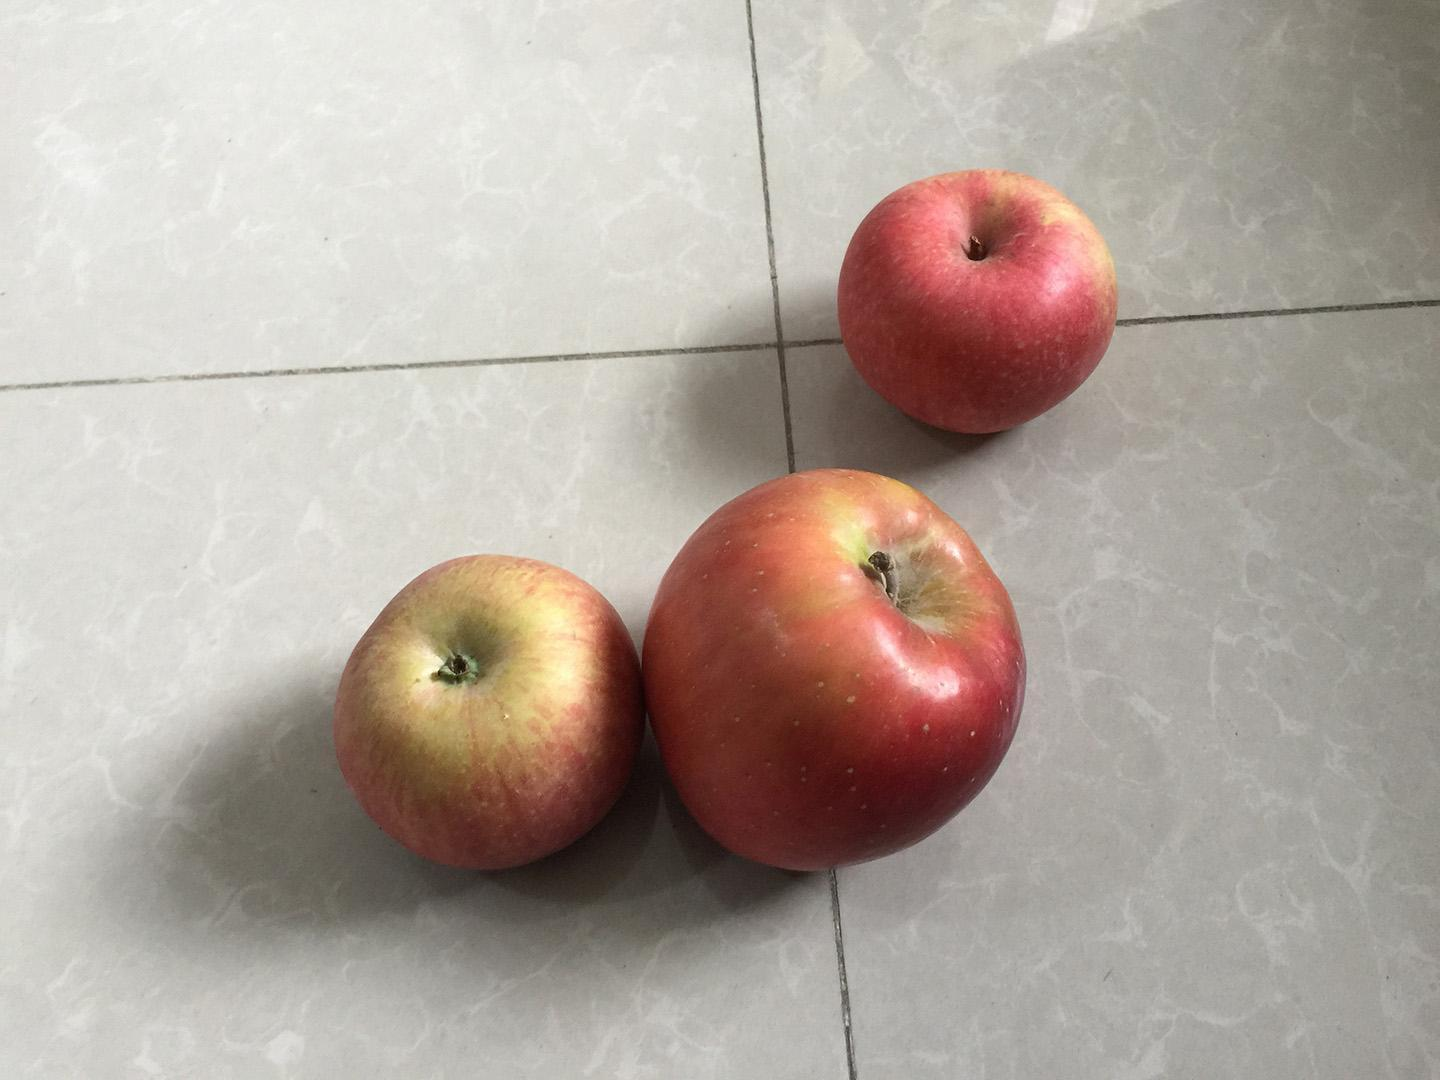apple: (625, 455, 1047, 881), (323, 541, 658, 888), (831, 157, 1130, 446)
